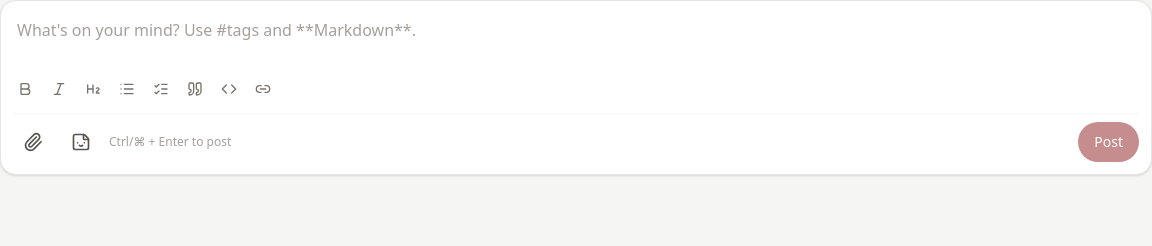
it: Composer stickers › says where to add a pack when there is none
Click the button named "Stickers" at (81, 142), box [61,122,101,162]
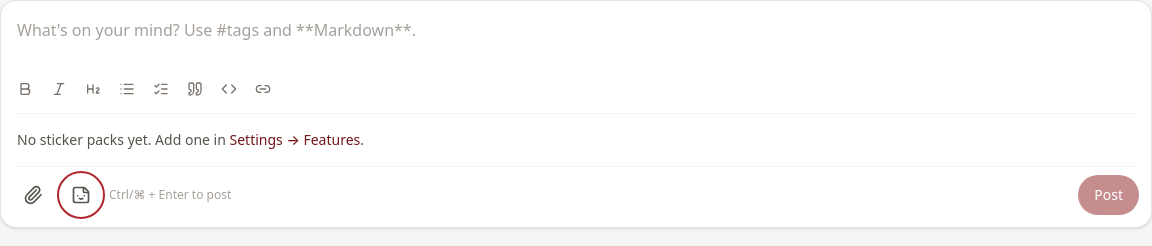
Now the element named "Stickers" reads "No sticker packs yet. Add one in Settings → Features .", box [13,113,1139,158]
